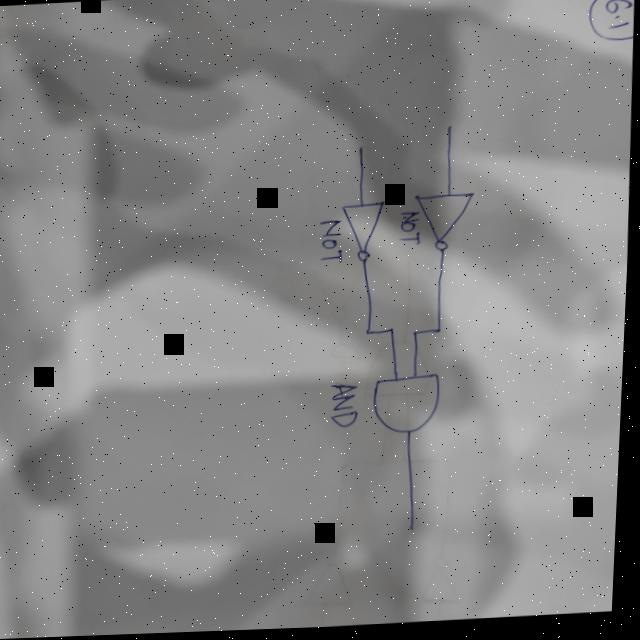junction: (435, 327, 447, 337), (365, 330, 377, 339), (389, 328, 399, 336), (413, 331, 423, 339)
terminal: (409, 522, 423, 537), (355, 145, 368, 157), (445, 124, 455, 138)
text: (330, 382, 365, 432), (317, 221, 347, 267), (396, 212, 424, 250)
